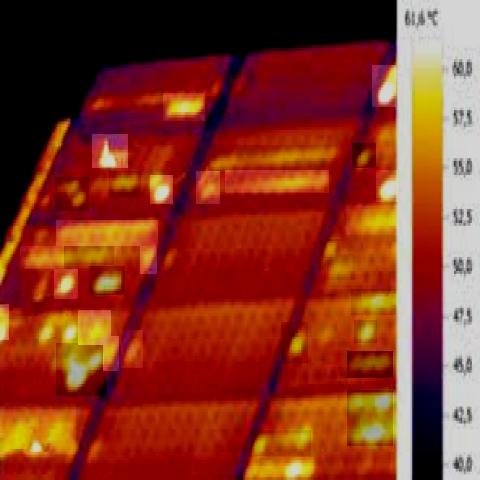fault: (0, 403, 76, 454), (208, 145, 338, 173), (56, 343, 106, 396), (347, 390, 394, 446), (57, 220, 158, 246), (225, 170, 329, 193), (33, 312, 82, 348), (243, 457, 314, 480), (346, 205, 399, 235), (252, 430, 312, 456), (347, 351, 394, 378), (92, 134, 128, 168), (163, 94, 205, 122), (351, 289, 396, 315), (55, 177, 89, 211), (78, 310, 111, 345), (58, 245, 114, 265), (281, 322, 308, 363), (89, 266, 125, 295), (20, 246, 64, 269), (372, 65, 396, 107), (109, 171, 141, 198), (122, 330, 144, 368), (26, 429, 55, 457), (196, 171, 220, 204), (327, 254, 355, 280), (376, 170, 398, 202), (55, 270, 78, 300), (150, 175, 173, 204), (162, 242, 180, 276), (352, 143, 376, 168), (140, 240, 157, 274), (103, 336, 119, 371), (354, 320, 377, 343), (319, 239, 340, 258), (0, 304, 9, 340)
